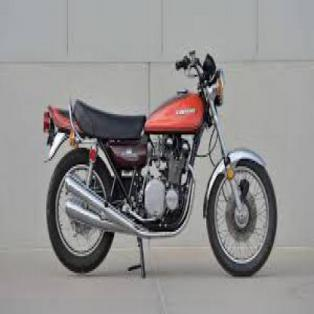Motocicleta: (36, 42, 281, 286)
